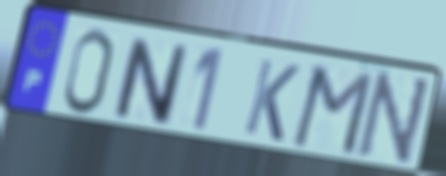0: (62, 26, 116, 118)
1: (188, 43, 225, 135)
K: (240, 55, 303, 145)
M: (288, 62, 377, 159)
N: (352, 70, 434, 171), (111, 33, 190, 129)
